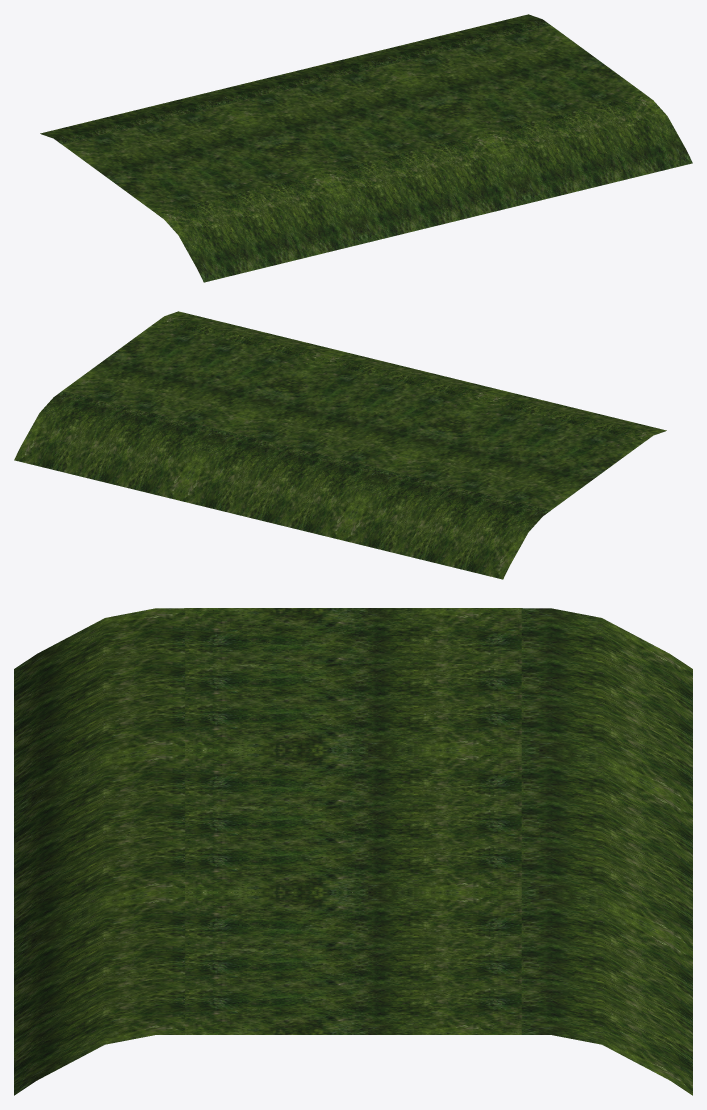
The model's file is poleL_pole5.gltf.
The picture shows the model from 3 angles, top to bottom: view 1: azimuth 30°, elevation 25°; view 2: azimuth 150°, elevation 25°; view 3: azimuth 270°, elevation 25°; orthographic projection. The views are drawn at different scales.
Bounding box in the file's own units: 300 × 20 × 202.
1 material, 1 textured.
